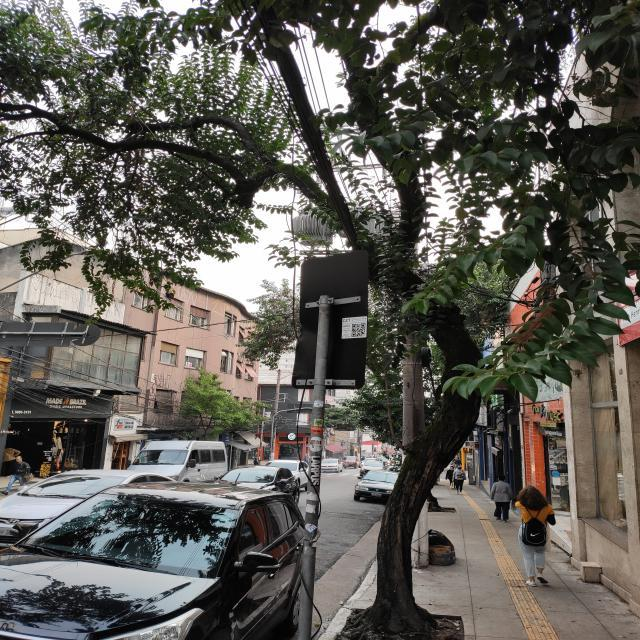qrcode: (353, 324, 367, 338)
